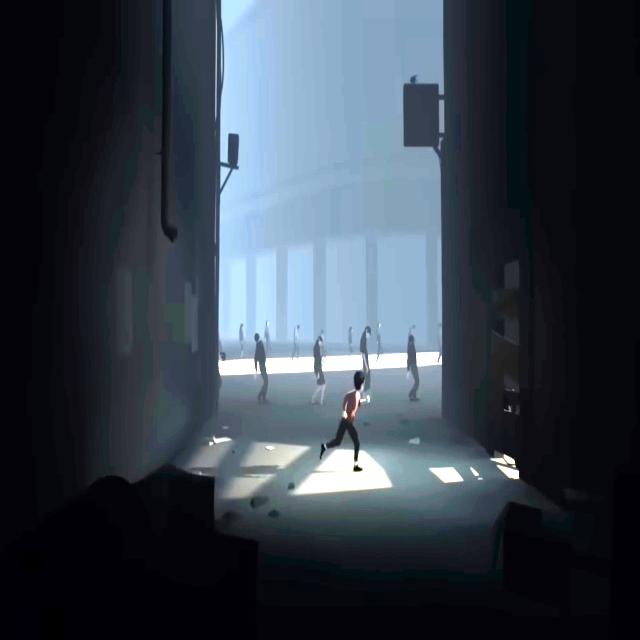boy: (320, 370, 370, 472)
zombie: (254, 332, 269, 403), (311, 337, 326, 408), (407, 334, 419, 402), (360, 326, 371, 370), (218, 351, 226, 399), (264, 320, 272, 358), (292, 325, 300, 360), (376, 322, 383, 362), (238, 323, 244, 359), (348, 327, 354, 362), (437, 322, 442, 363)
